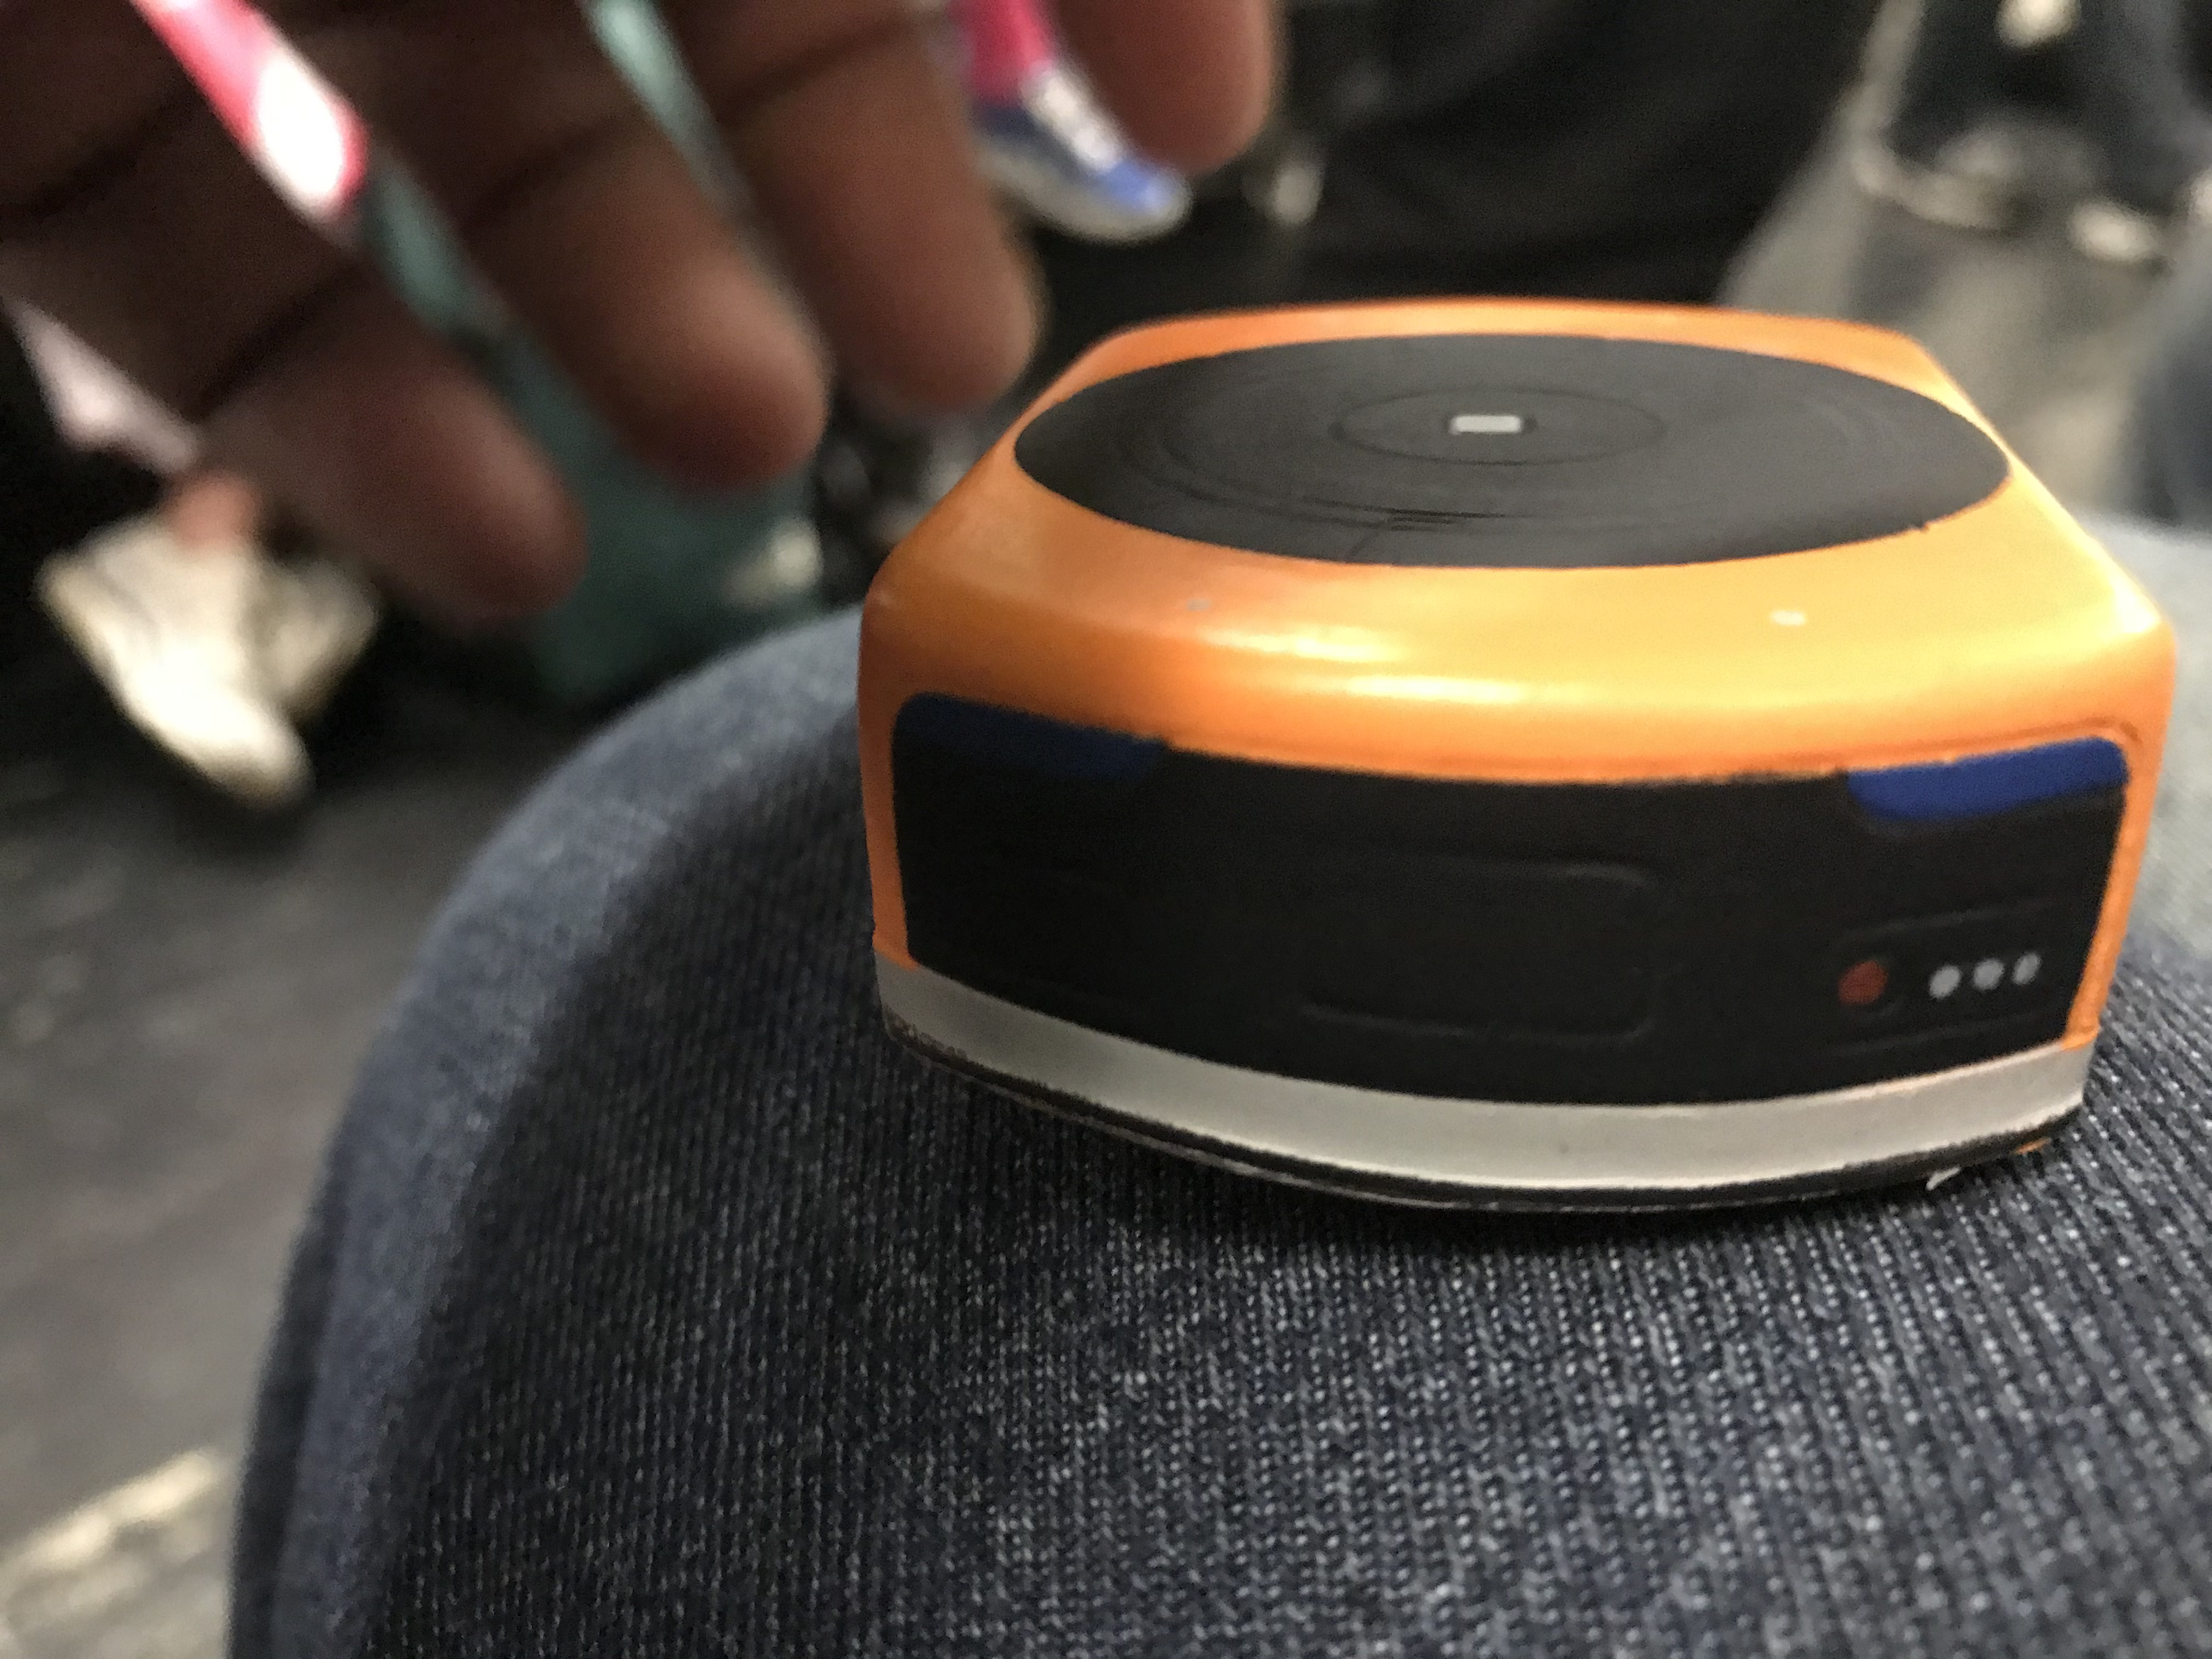amazon_bot: (845, 293, 2188, 1232)
